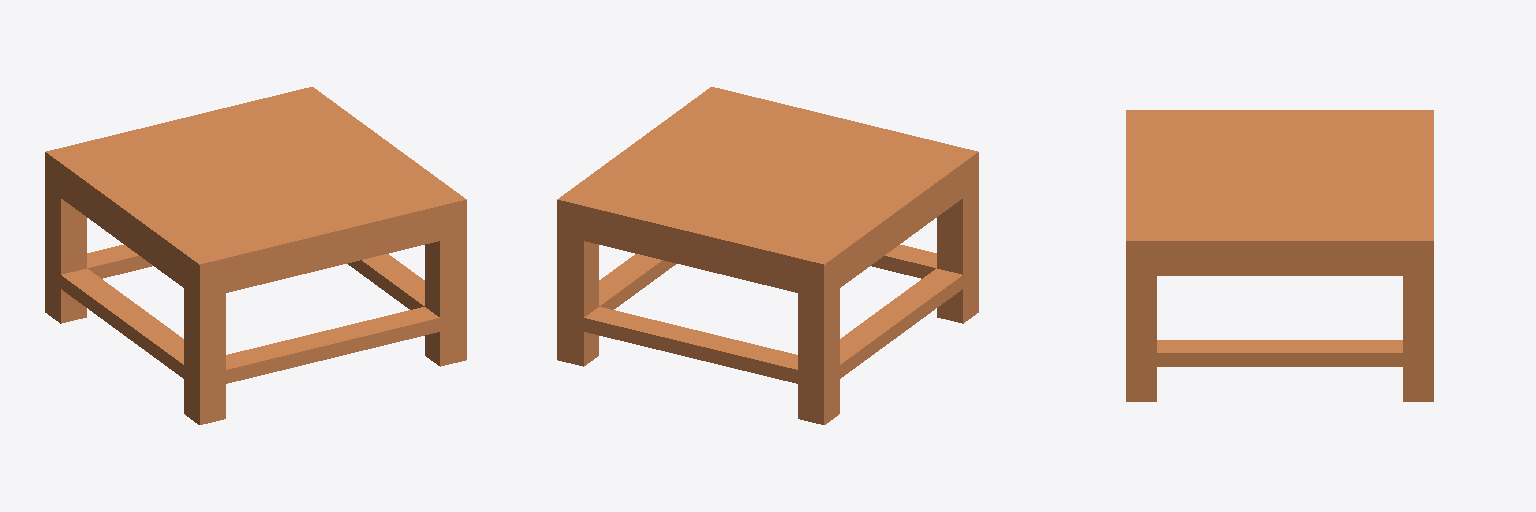
Rendered from tableCoffeeSquare.obj.
3 views of the same model, side by side, from view 1: azimuth 30°, elevation 25°; view 2: azimuth 150°, elevation 25°; view 3: azimuth 270°, elevation 25° (orthographic).
Visible parts, largest first — view 1: tableCoffeeSquare; view 2: tableCoffeeSquare; view 3: tableCoffeeSquare.
Part boxes in pixels (x1,y1,x2,y2): tableCoffeeSquare: (45, 87, 466, 424); tableCoffeeSquare: (557, 87, 978, 424); tableCoffeeSquare: (1126, 110, 1433, 401).
Size of the model in its own units: 1.84 by 1.06 by 1.84.